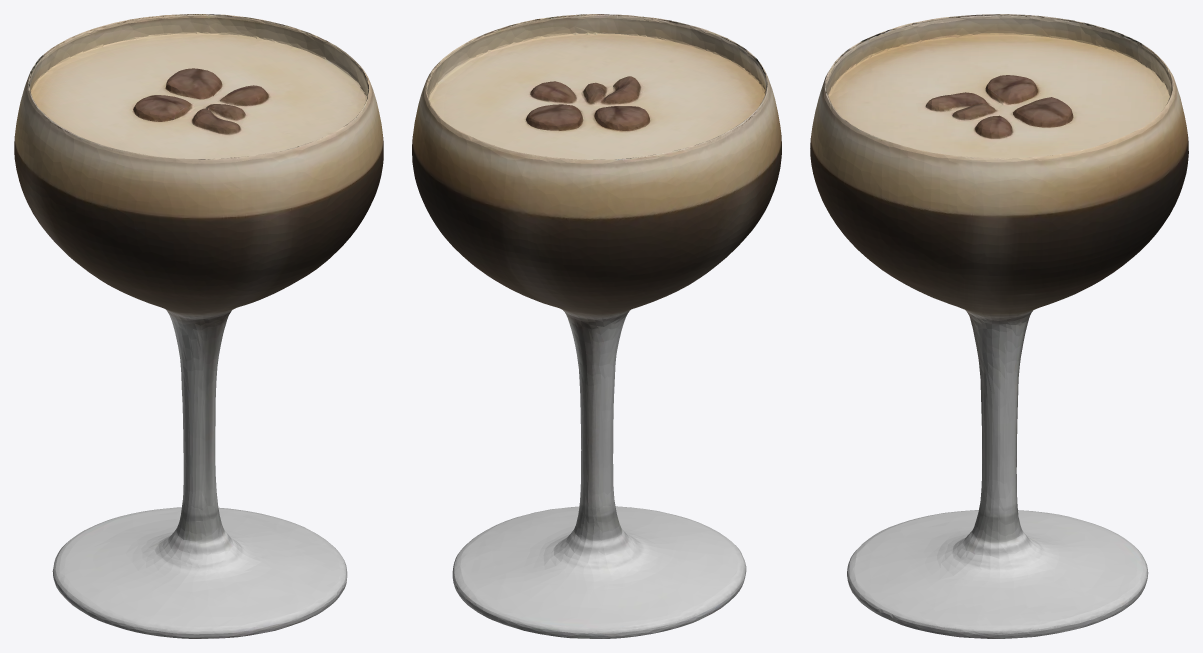
The model's file is p_espresso.glb.
3 views of the same model, side by side, from view 1: azimuth 30°, elevation 25°; view 2: azimuth 150°, elevation 25°; view 3: azimuth 270°, elevation 25° (orthographic).
Parts seen in each view (by area): view 1: geometry_0; view 2: geometry_0; view 3: geometry_0.
Part boxes in pixels (<box>): geometry_0: <box>14,14,383,638</box>; geometry_0: <box>412,14,781,638</box>; geometry_0: <box>810,14,1188,638</box>.
Bounding box in the file's own units: 0.6755 × 0.9996 × 0.6955.
Materials: 1 (1 with a texture image).
